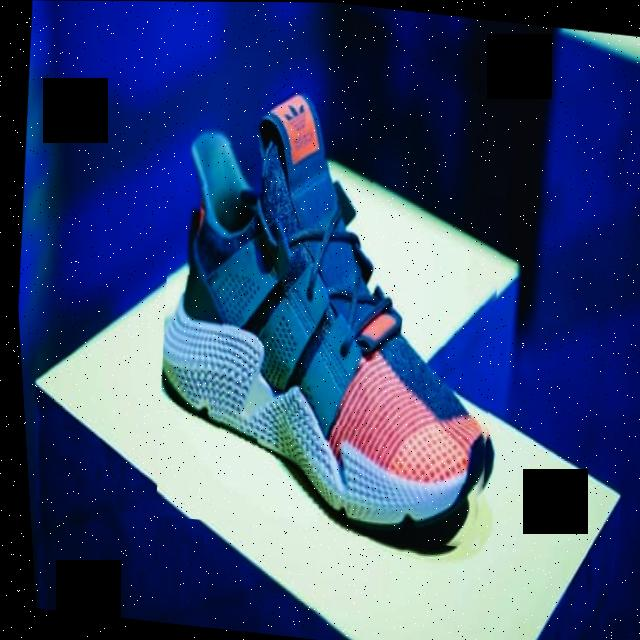shoe: (128, 70, 528, 551)
